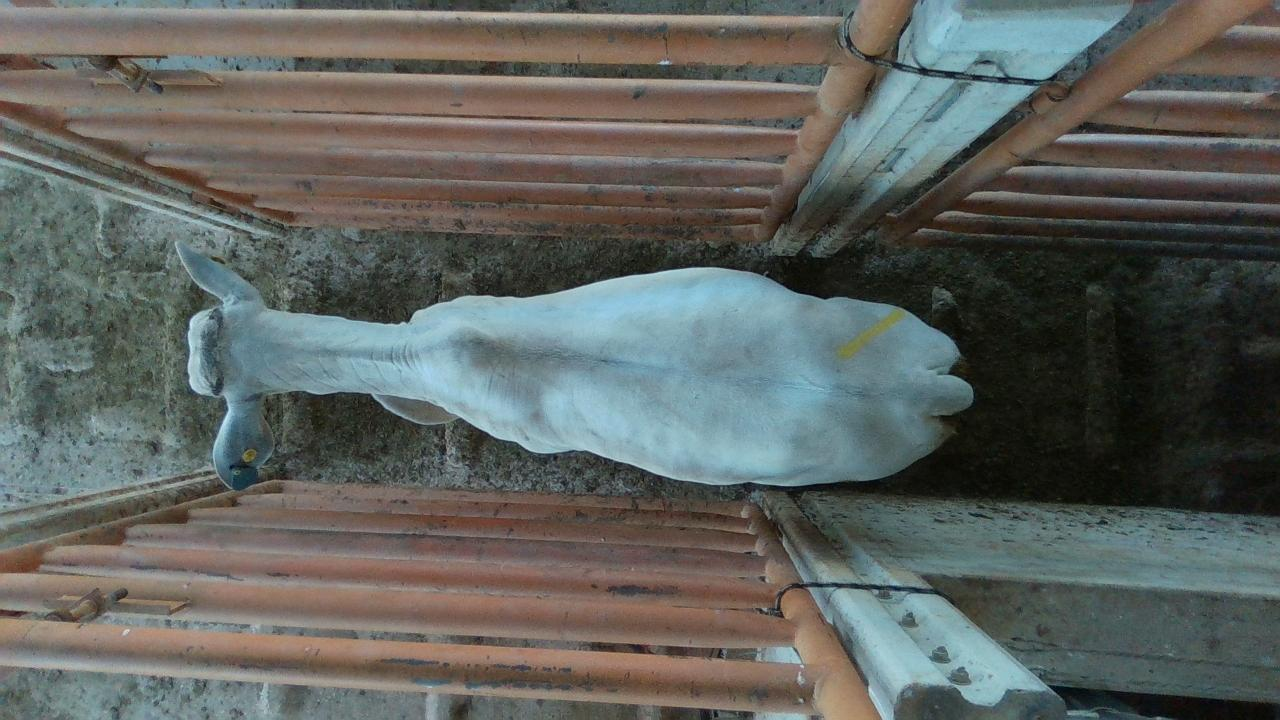cattle: (172, 238, 974, 491)
